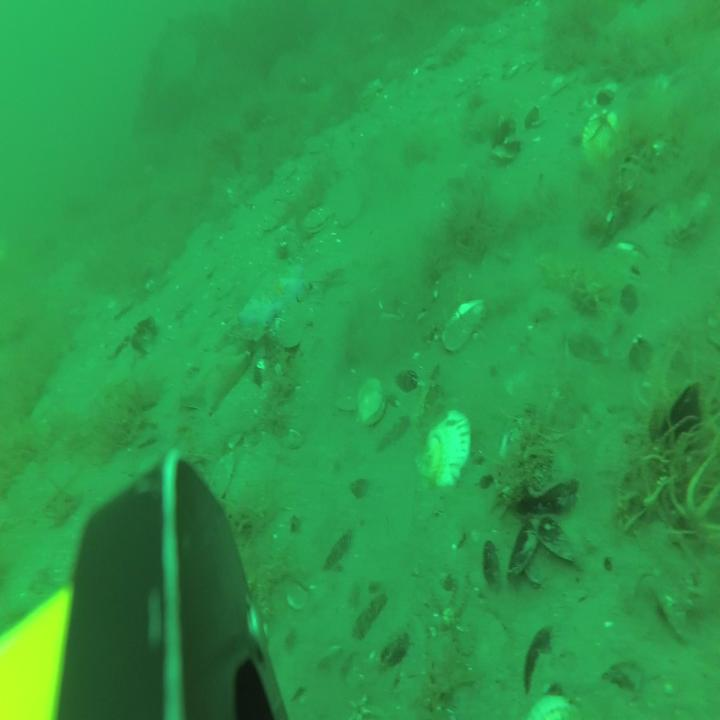scallop: (417, 408, 472, 486), (443, 297, 485, 352), (585, 108, 617, 161), (521, 697, 577, 720), (359, 380, 386, 426), (337, 188, 364, 226), (304, 206, 328, 233)
starfish: (237, 258, 310, 326), (179, 349, 250, 411)
